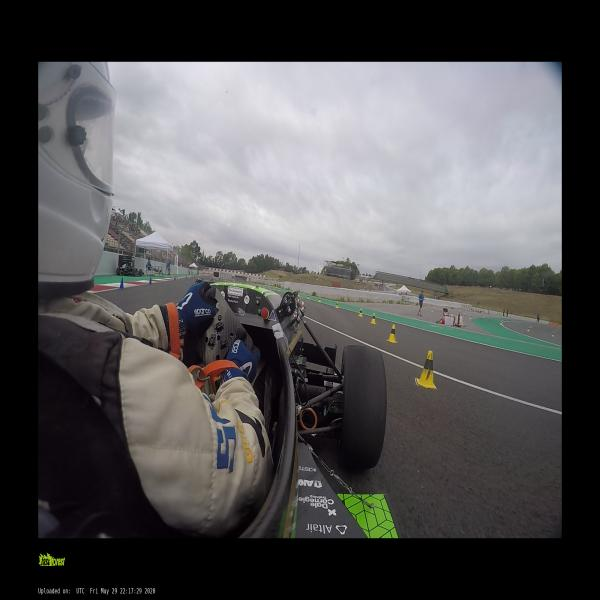blue_cone: (118, 276, 124, 290), (149, 276, 153, 284), (174, 275, 176, 281), (185, 275, 187, 279)
orange_cone: (302, 300, 304, 307)
yellow_cone: (413, 351, 437, 389), (386, 324, 397, 344), (370, 313, 376, 325), (358, 309, 362, 317), (526, 326, 530, 332), (335, 302, 338, 309), (318, 297, 321, 303), (551, 332, 554, 337), (307, 294, 309, 299)
